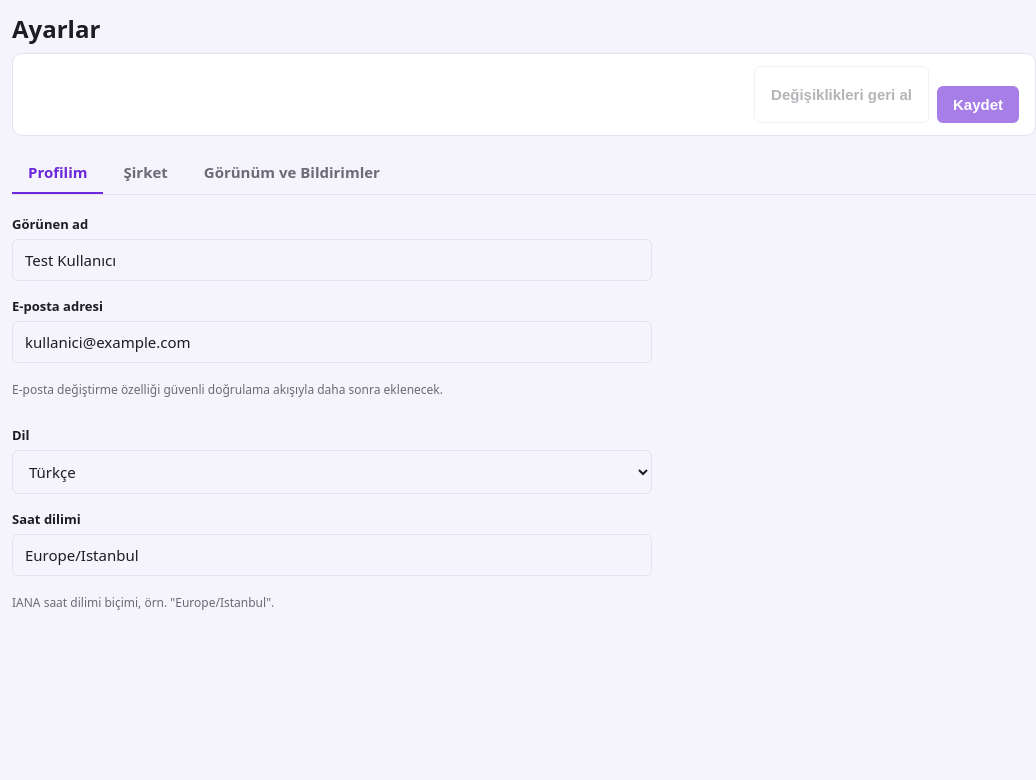
Settings › API hatasında sessizce başarısız olmaz, Türkçe hata mesajı gösterir
Replace the text in the field labelled "Görünen ad" with "Yeni Ad": (332, 260) [12, 239, 652, 281]
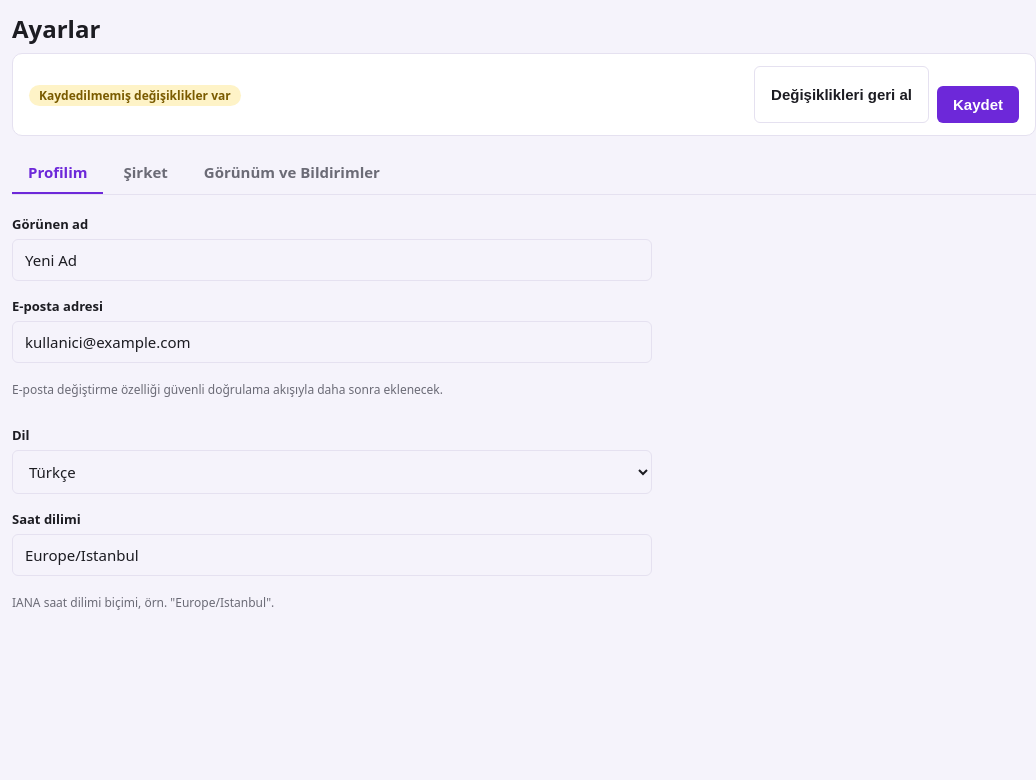
Click the button "Kaydet": (978, 104) [937, 86, 1019, 123]
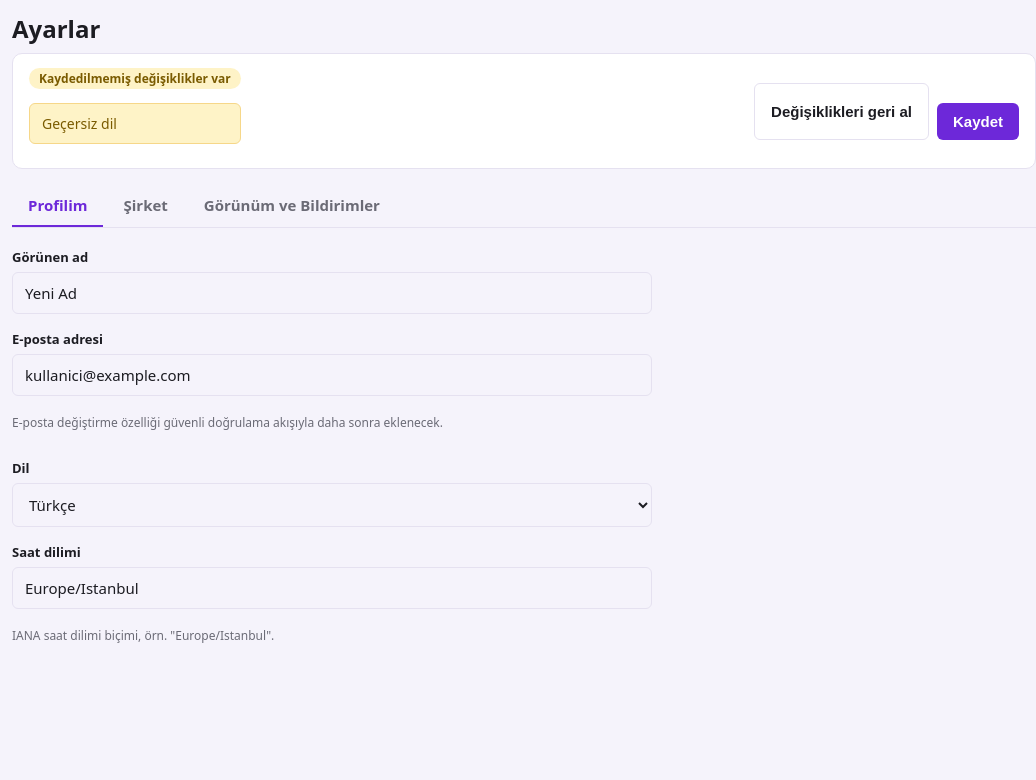
expect the text "Geçersiz dil" is shown: met, box [29, 103, 241, 144]
